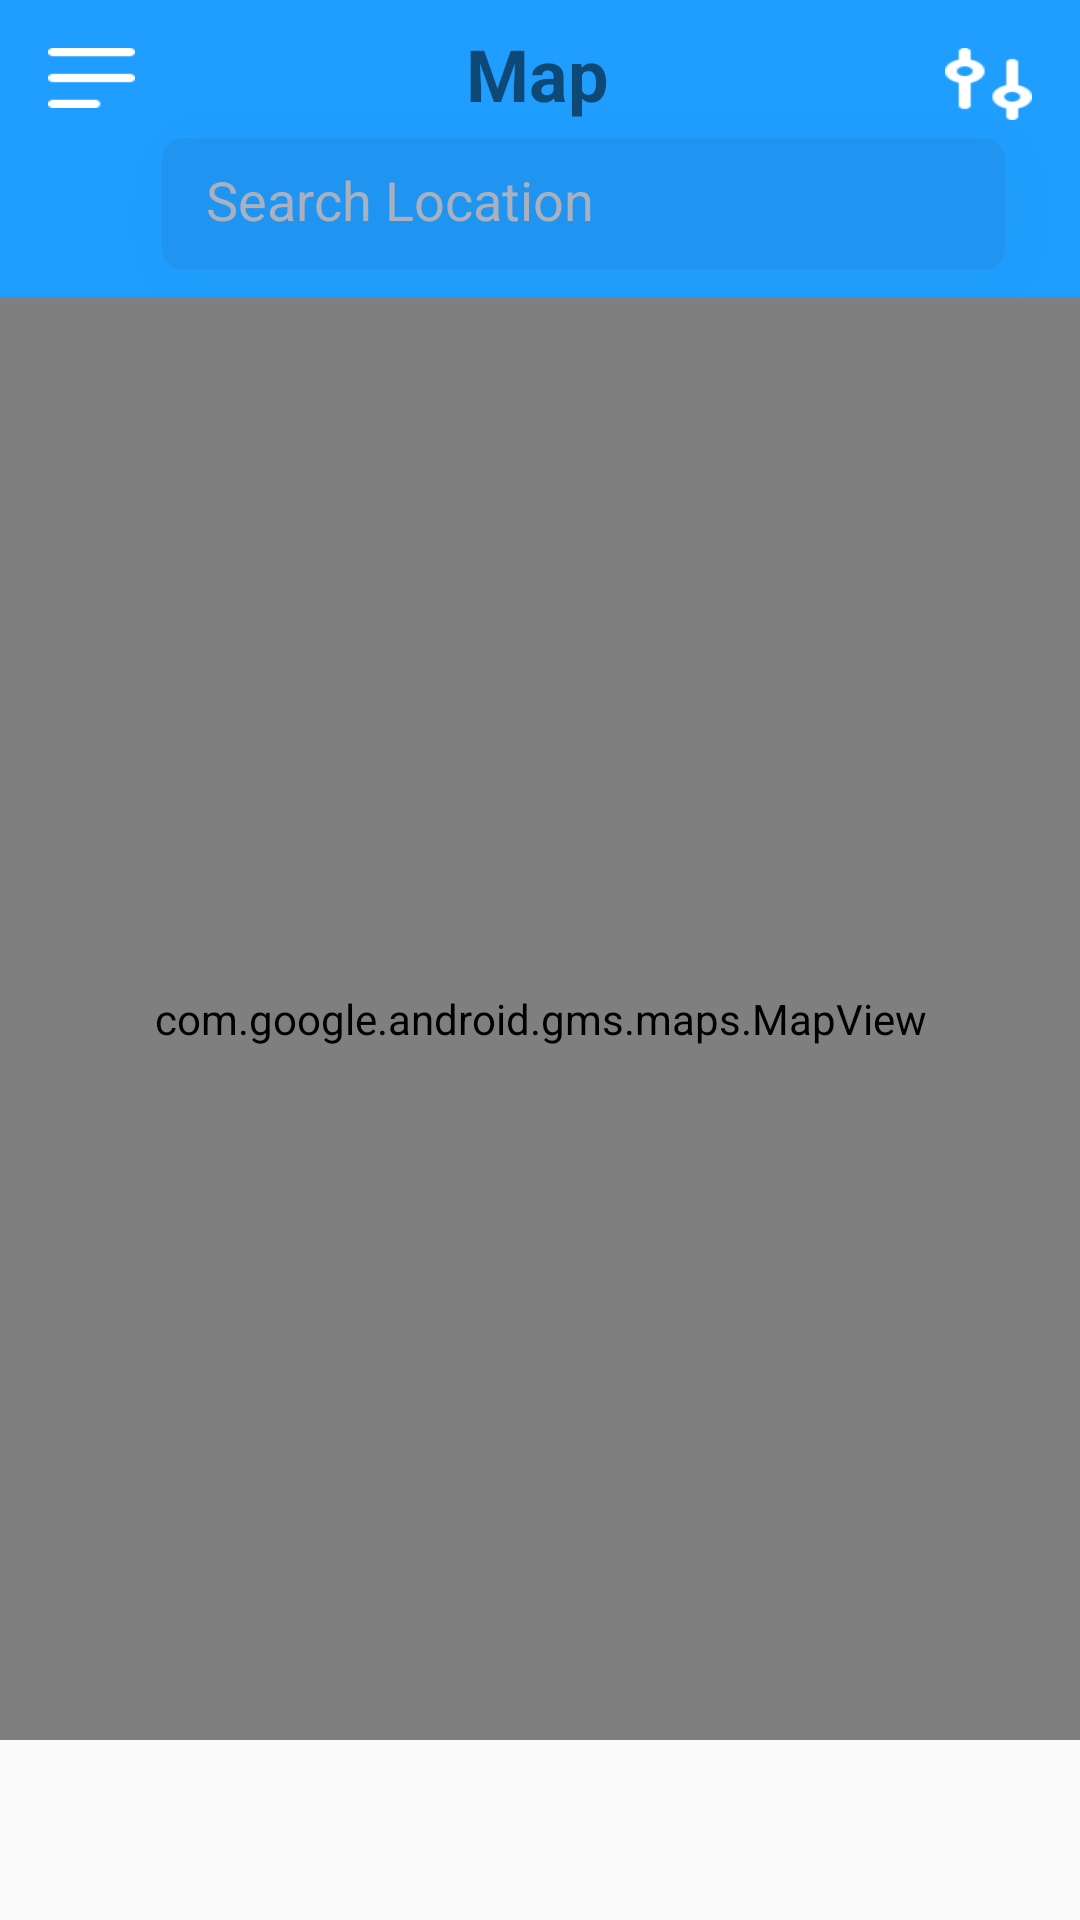

Screen size 1080px x 1920px. Icon name, then its box in pixels as {"left": x1, "top": y1, "right": x2, "bottom": y2}:
menuicon: {"left": 48, "top": 48, "right": 135, "bottom": 108}
